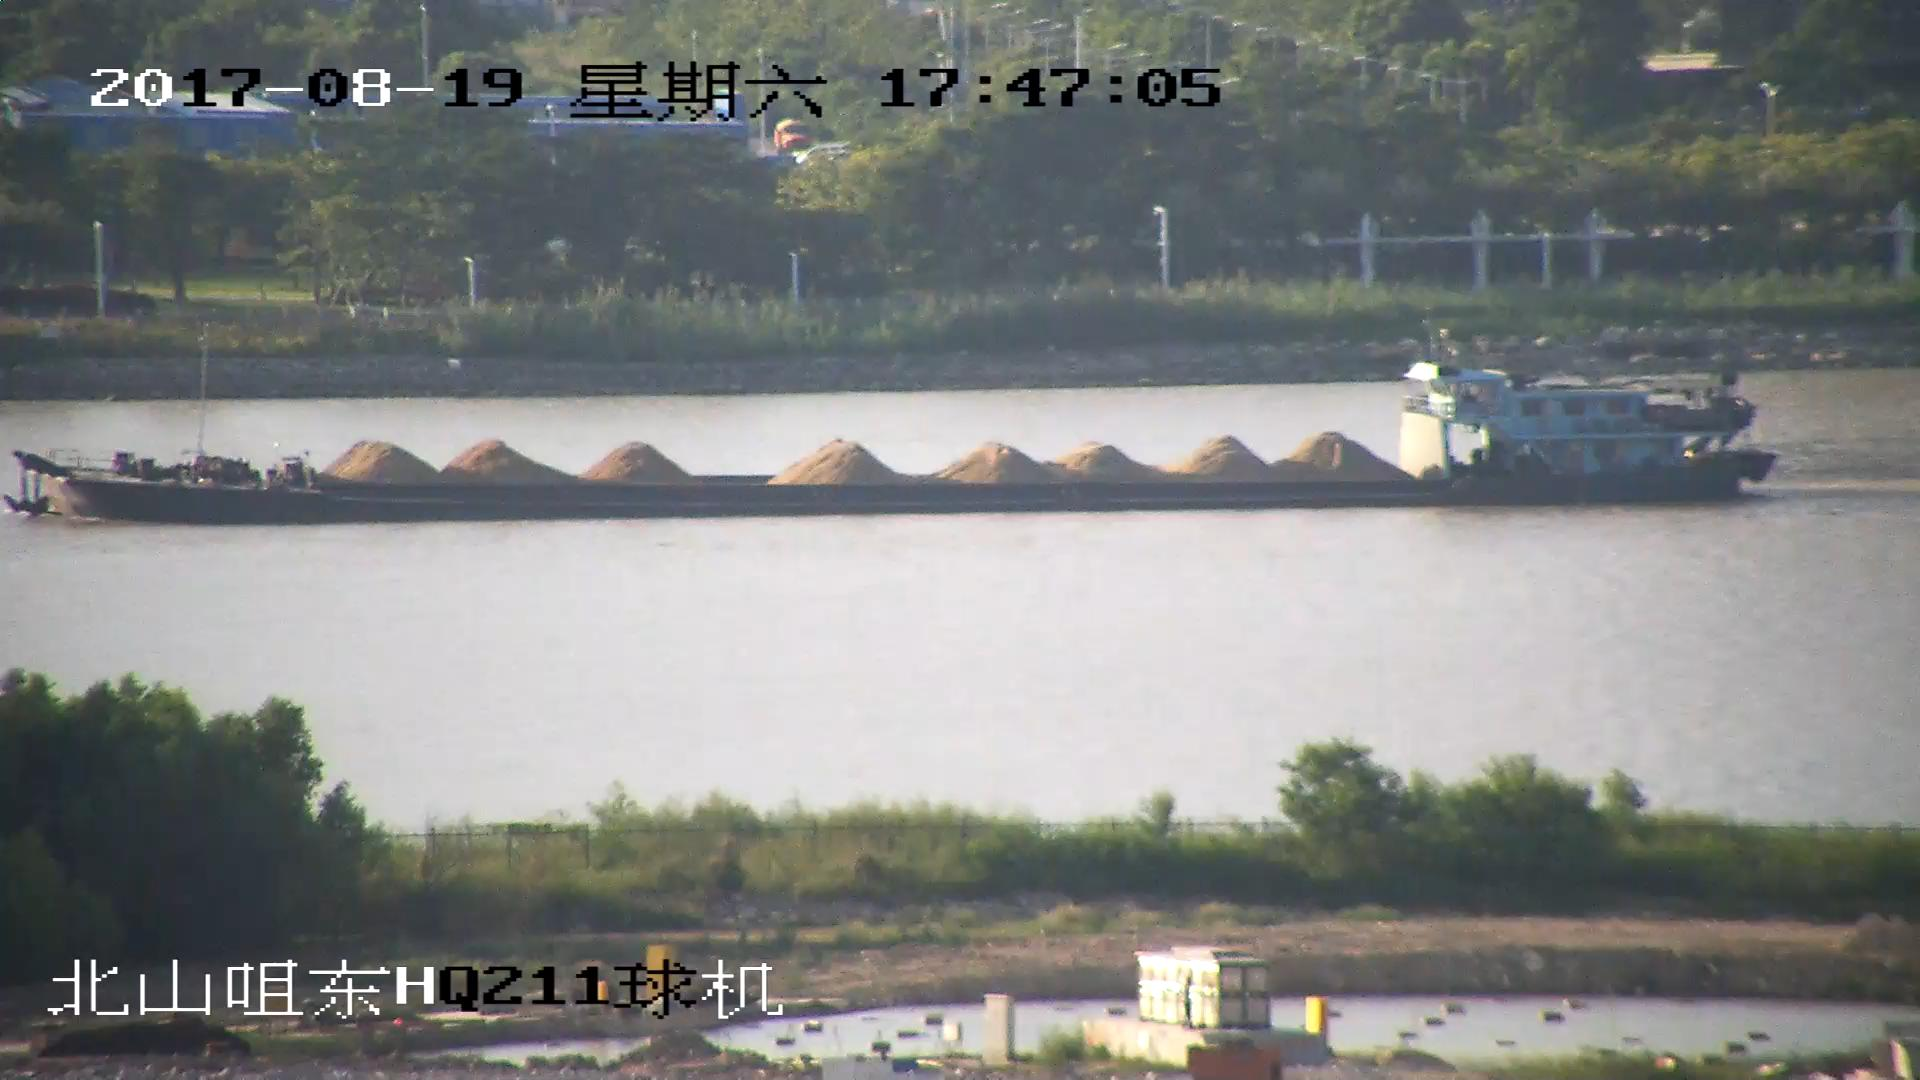ore carrier: (4, 336, 1776, 528)
